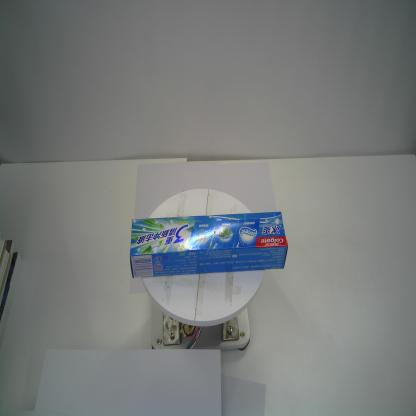Personal Hygiene: (130, 211, 288, 279)
